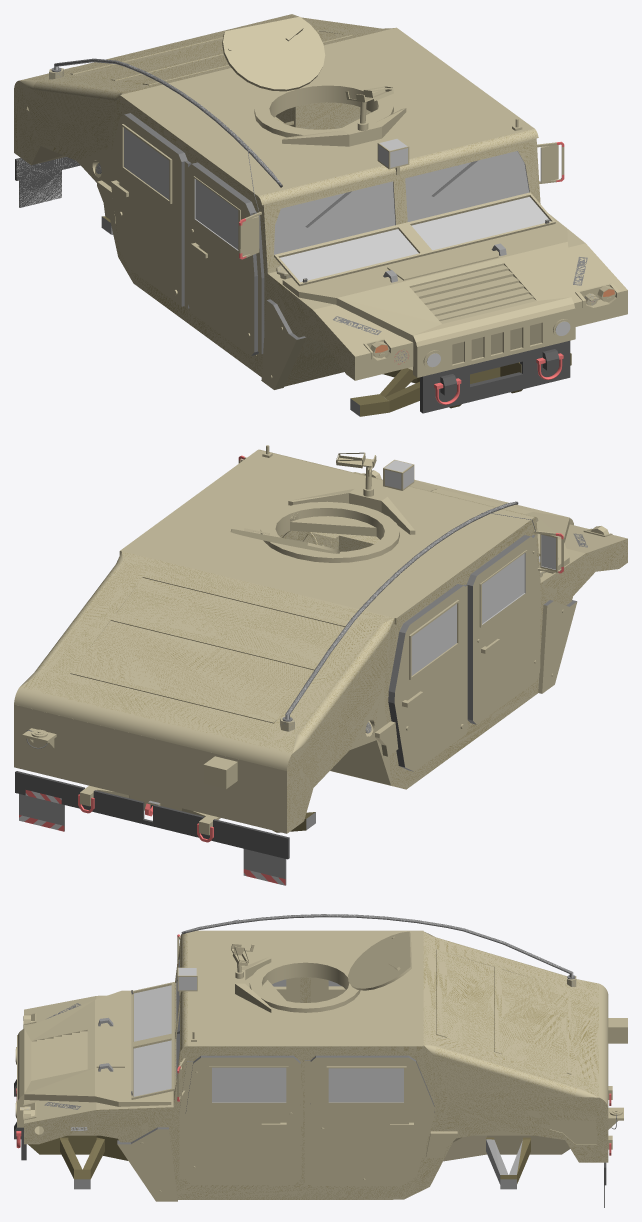
Rendered from body_visual2.dae.
3 views of the same model, one above another, from view 1: azimuth 30°, elevation 25°; view 2: azimuth 150°, elevation 25°; view 3: azimuth 270°, elevation 25° (orthographic). The views are drawn at different scales.
Visible parts, largest first — view 1: instance_30_110, instance_22_001, instance_30_081, instance_67_008, instance_73_001, instance_30_001, instance_30_004, instance_30_187, instance_30_013, instance_30_011, instance_8, instance_30_124 (+22 smaller); view 2: instance_30_081, instance_30_110, instance_30_003, instance_73_001, instance_67_008, instance_13_001, instance_30_080, instance_30_102, instance_30_186, instance_25_001, instance_22_001, instance_67_015 (+14 smaller); view 3: instance_30_081, instance_30_110, instance_27_008, instance_11_001, instance_22_001, instance_11_019, instance_27_016, instance_2_001, instance_30_187, instance_30_102, instance_21, instance_30_004 (+23 smaller).
Boxes of the visible parts, left/top/right/bottom form: instance_30_110: left=120, top=27, right=534, bottom=195; instance_22_001: left=282, top=216, right=575, bottom=377; instance_30_081: left=14, top=14, right=392, bottom=380; instance_67_008: left=109, top=114, right=181, bottom=306; instance_73_001: left=187, top=164, right=254, bottom=355; instance_30_001: left=258, top=128, right=540, bottom=273; instance_30_004: left=268, top=213, right=627, bottom=380; instance_30_187: left=222, top=16, right=325, bottom=91; instance_30_013: left=405, top=151, right=529, bottom=221; instance_30_011: left=274, top=181, right=395, bottom=254; instance_8: left=420, top=340, right=570, bottom=413; instance_30_124: left=411, top=197, right=550, bottom=250; instance_30_081: left=20, top=517, right=627, bottom=833; instance_30_110: left=120, top=450, right=533, bottom=618; instance_30_003: left=14, top=704, right=286, bottom=833; instance_73_001: left=473, top=536, right=539, bottom=724; instance_67_008: left=394, top=585, right=466, bottom=771; instance_13_001: left=15, top=771, right=289, bottom=859; instance_30_080: left=14, top=687, right=291, bottom=770; instance_30_102: left=260, top=501, right=399, bottom=562; instance_30_186: left=275, top=508, right=384, bottom=539; instance_25_001: left=538, top=601, right=577, bottom=693; instance_22_001: left=410, top=479, right=573, bottom=573; instance_67_015: left=411, top=604, right=456, bottom=675; instance_30_081: left=24, top=931, right=608, bottom=1199; instance_30_110: left=177, top=930, right=423, bottom=1046; instance_27_008: left=310, top=1057, right=434, bottom=1186; instance_11_001: left=185, top=1057, right=300, bottom=1185; instance_22_001: left=16, top=990, right=171, bottom=1127; instance_11_019: left=212, top=1067, right=286, bottom=1102; instance_27_016: left=328, top=1068, right=403, bottom=1102; instance_2_001: left=117, top=1128, right=177, bottom=1201; instance_30_187: left=348, top=931, right=411, bottom=990; instance_30_102: left=249, top=957, right=360, bottom=1012; instance_21: left=443, top=1135, right=570, bottom=1161; instance_30_004: left=24, top=995, right=173, bottom=1134.
Size of the model in its own units: 2.84 by 5.42 by 2.01.
